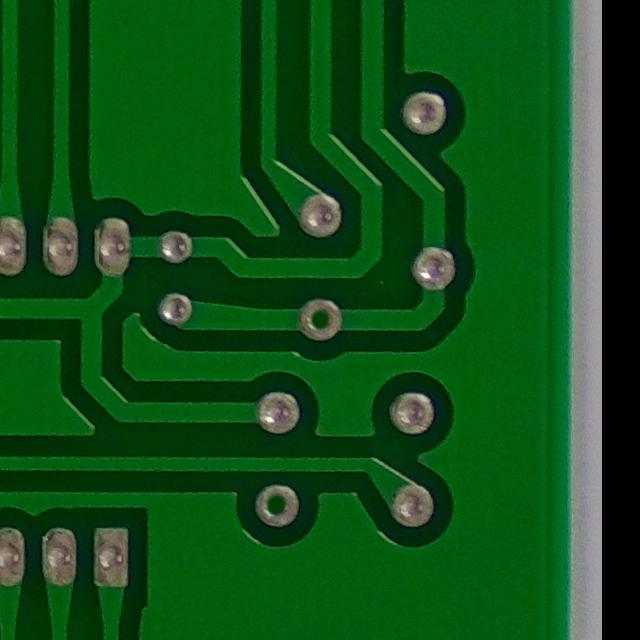missing_hole: (293, 292, 348, 348)
